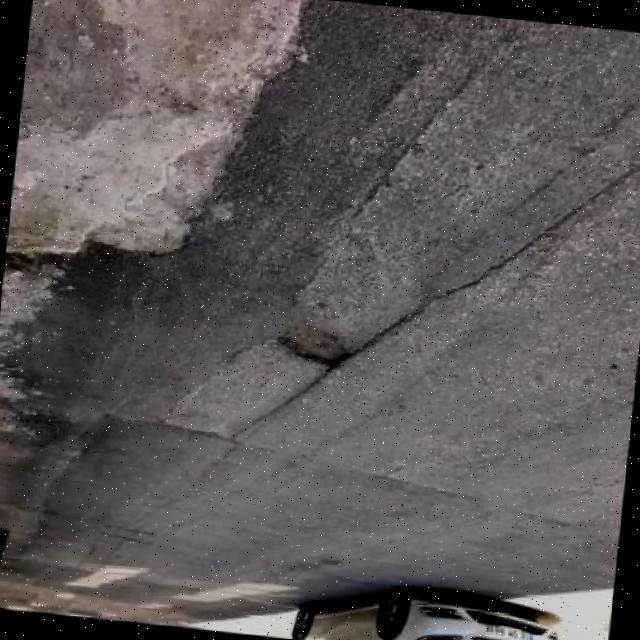Pothole: (274, 320, 355, 372)
